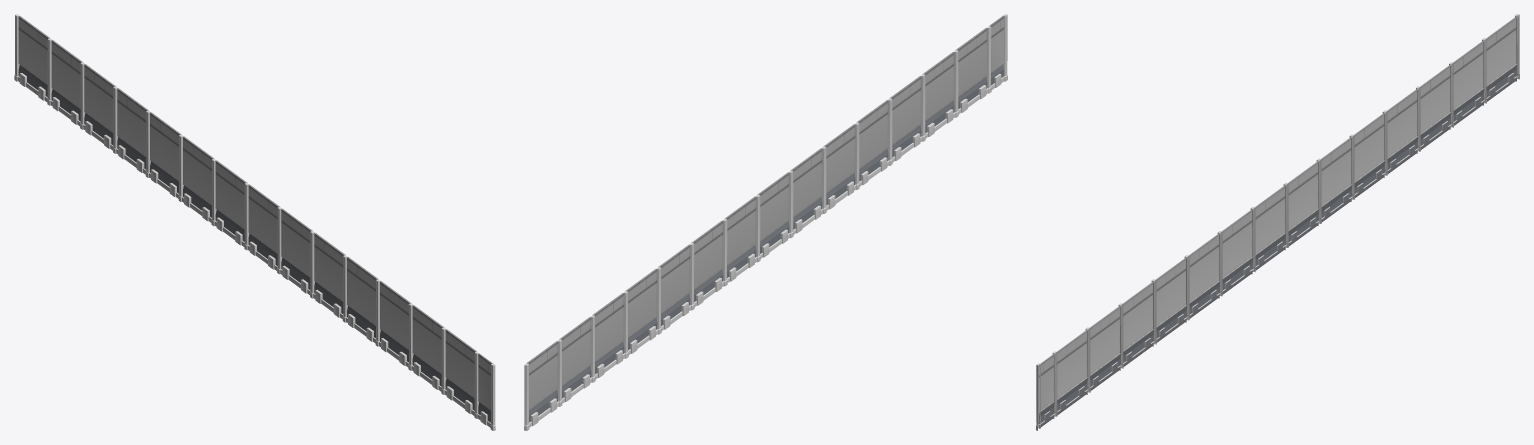
Rendered from Pfb_JALB_WallPart2_Line__4.fbx.
3 renders of one model, left to right at view 1: azimuth 30°, elevation 25°; view 2: azimuth 150°, elevation 25°; view 3: azimuth 330°, elevation 25°, orthographic.
Visible parts, largest first — view 1: MAT_JLABWall; view 2: MAT_JLABWall; view 3: MAT_JLABWall.
Boxes of the visible parts, box(x1,y1,x2,y2) form: MAT_JLABWall: box(14, 14, 495, 430); MAT_JLABWall: box(524, 14, 1007, 430); MAT_JLABWall: box(1036, 14, 1519, 430).
Size of the model in its own units: 0.318 by 4.04 by 53.97.
1 material, 1 textured.
